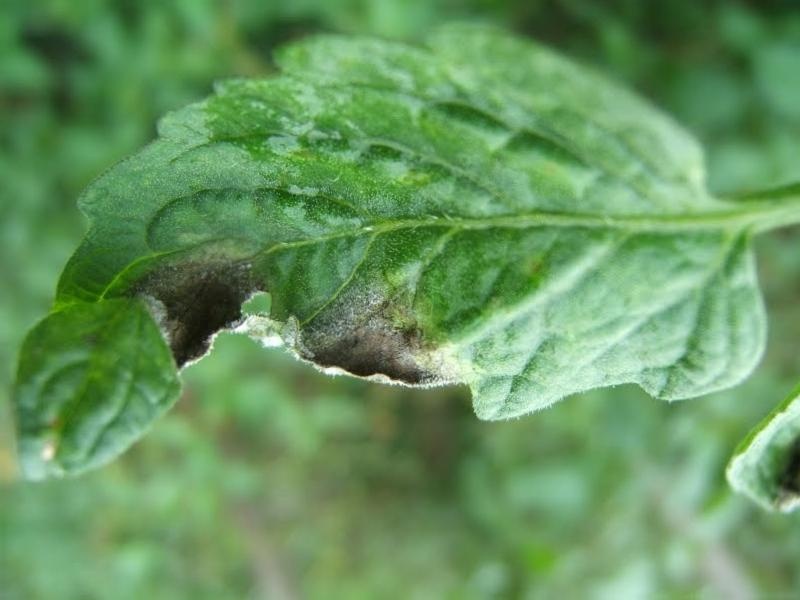Tomato leaf late blight: (11, 32, 771, 484)
